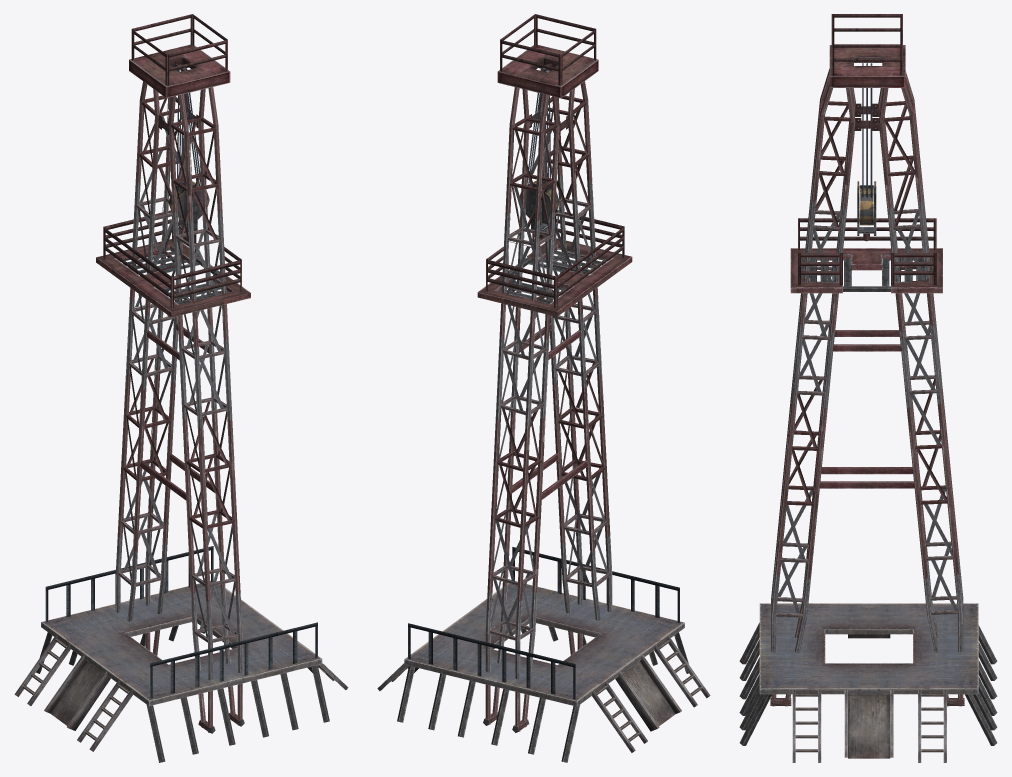
File: oiltower.FBX
3 renders of one model, left to right at view 1: azimuth 30°, elevation 25°; view 2: azimuth 150°, elevation 25°; view 3: azimuth 270°, elevation 25°, orthographic.
Visible parts, largest first — view 1: Object028; view 2: Object028; view 3: Object028.
Boxes of the visible parts, bbox=[...] form: Object028: bbox=[14, 14, 348, 762]; Object028: bbox=[377, 14, 710, 762]; Object028: bbox=[739, 14, 997, 762].
Size of the model in its own units: 1651 by 1413 by 4075.
Materials: 2 (2 with a texture image).
